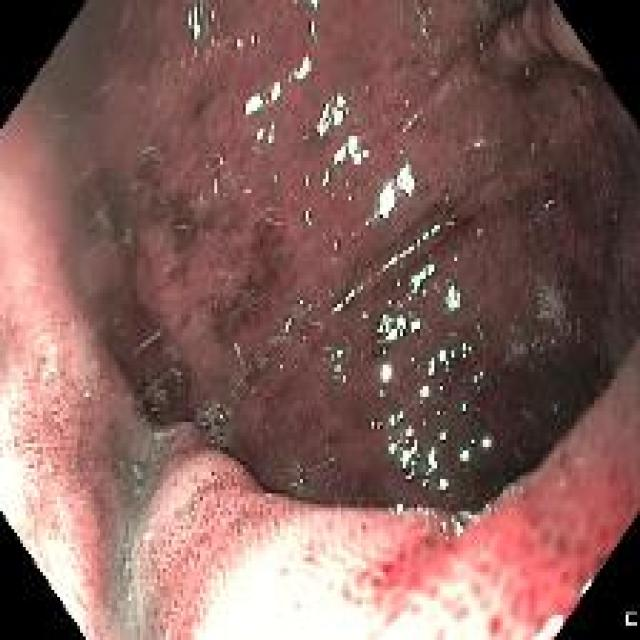blood: (72, 147, 208, 432), (487, 344, 613, 476), (489, 328, 593, 470), (204, 208, 305, 341), (513, 153, 629, 264), (102, 426, 151, 639), (547, 254, 618, 348), (500, 45, 575, 94), (233, 344, 286, 398), (473, 0, 541, 37), (227, 430, 265, 485), (594, 352, 624, 391)
blur: (41, 26, 223, 579)
bubbles: (533, 277, 587, 350), (499, 477, 531, 504), (295, 463, 315, 493), (541, 195, 557, 215)
saturation: (182, 516, 503, 636), (0, 378, 50, 556), (38, 519, 89, 629), (30, 332, 60, 381), (532, 608, 563, 638), (580, 580, 593, 598)
specularity: (241, 56, 309, 144), (423, 423, 494, 500), (366, 386, 423, 481), (382, 223, 436, 281), (417, 334, 463, 395), (371, 161, 417, 217), (373, 303, 424, 345), (314, 83, 349, 142), (183, 3, 223, 43), (332, 134, 369, 170), (432, 509, 470, 540), (328, 277, 361, 309), (385, 493, 410, 528), (329, 344, 350, 384), (413, 260, 436, 292), (276, 311, 297, 345), (440, 273, 457, 311), (244, 26, 263, 53), (471, 362, 486, 394), (379, 357, 395, 385), (308, 1, 318, 41), (461, 338, 477, 361), (233, 28, 246, 56), (320, 164, 331, 191), (457, 397, 468, 420), (214, 408, 229, 423), (298, 169, 309, 188), (476, 324, 487, 343), (298, 469, 310, 486), (303, 202, 309, 233), (542, 197, 554, 211), (232, 343, 241, 355), (278, 362, 286, 369), (325, 458, 331, 464)
